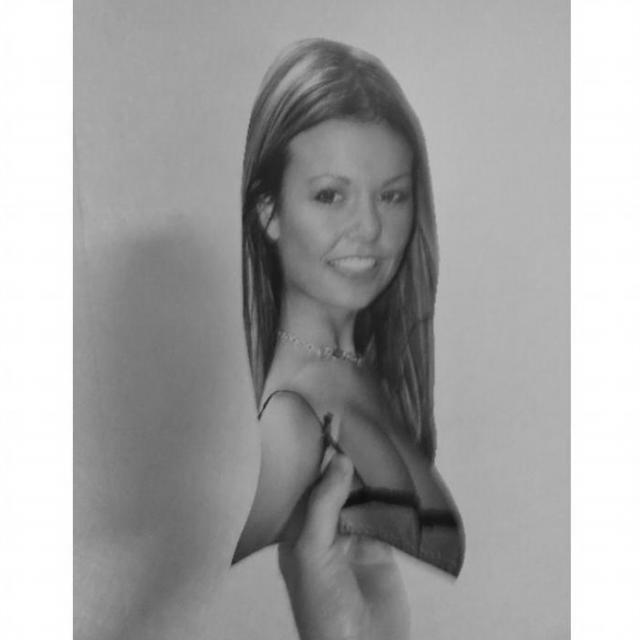fake: (220, 34, 480, 593)
